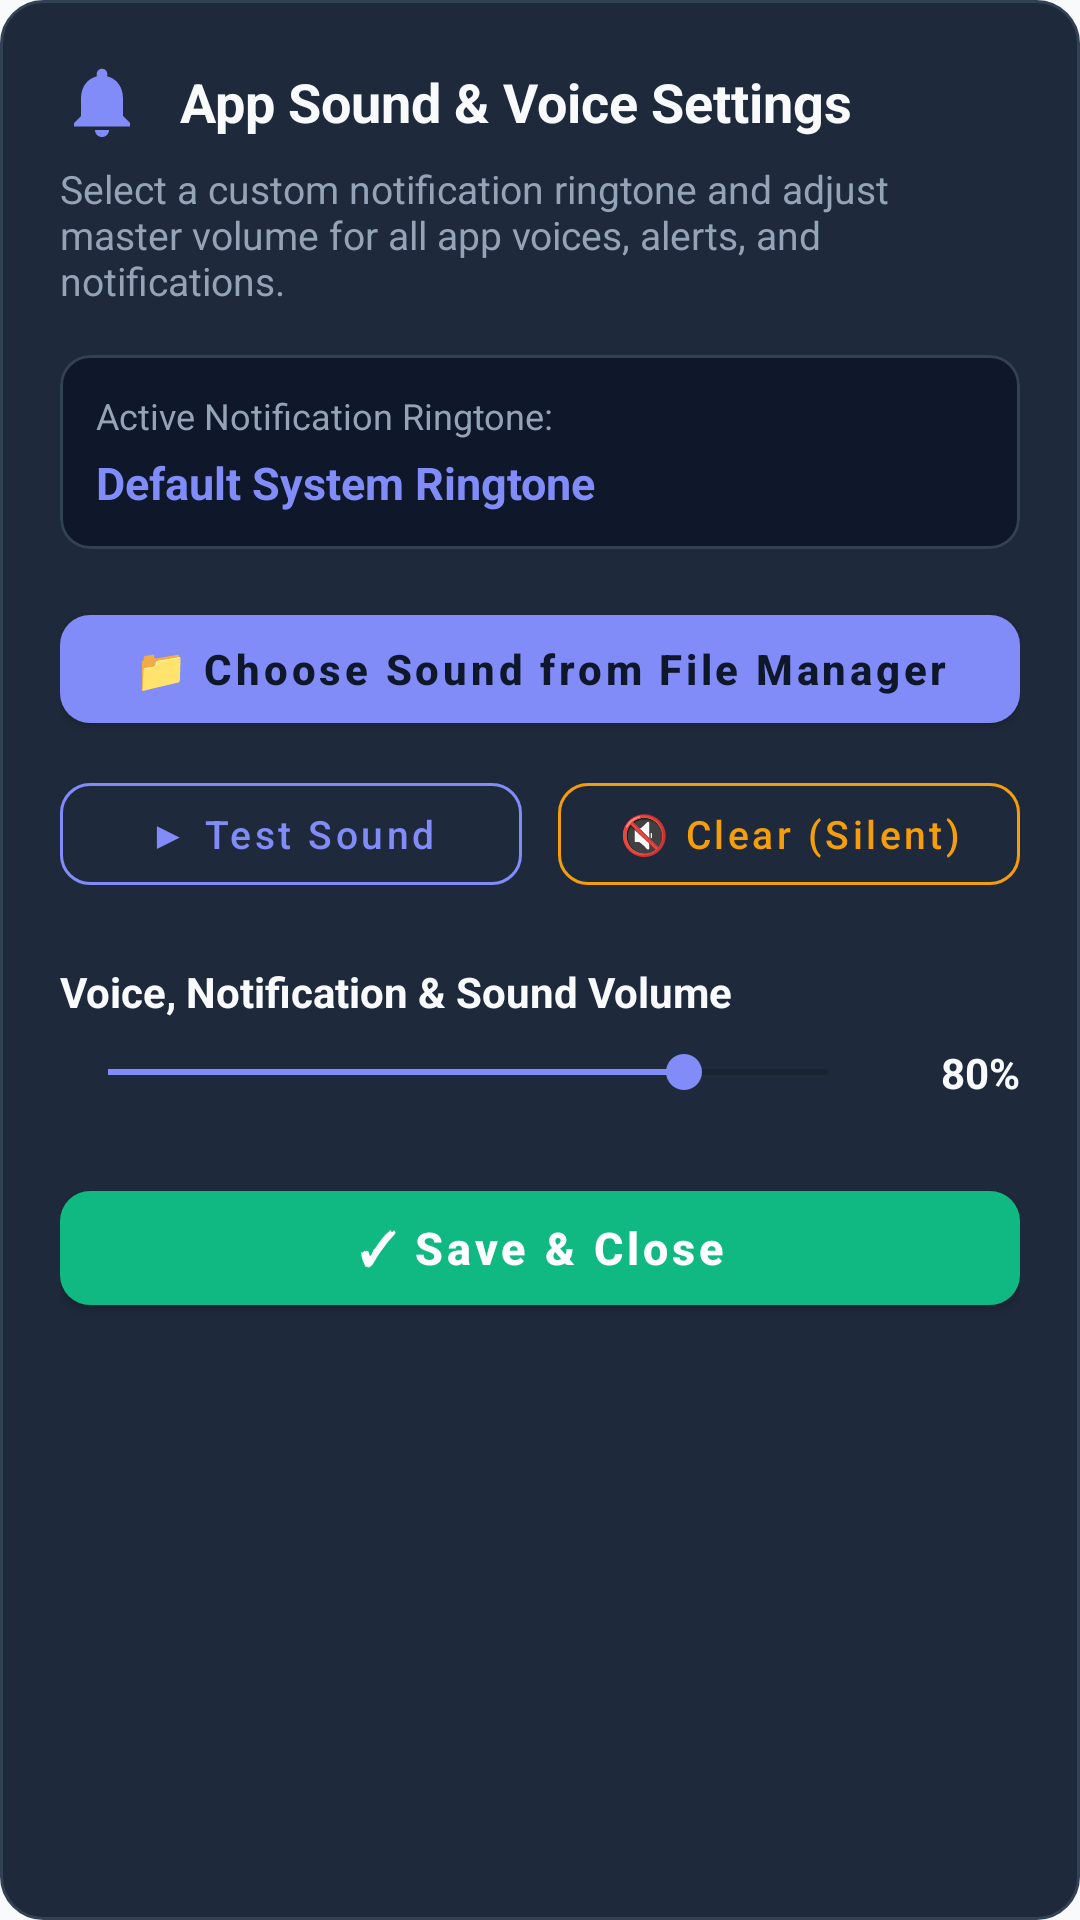

Where to tap for icons on this 1080px x 1920px app screen, as (x,y):
bell: (102,102)
